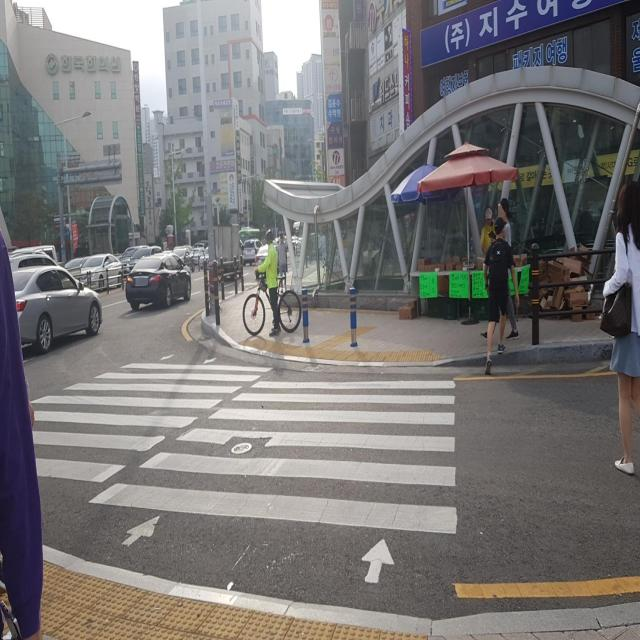횡단보도: (26, 346, 461, 590)
